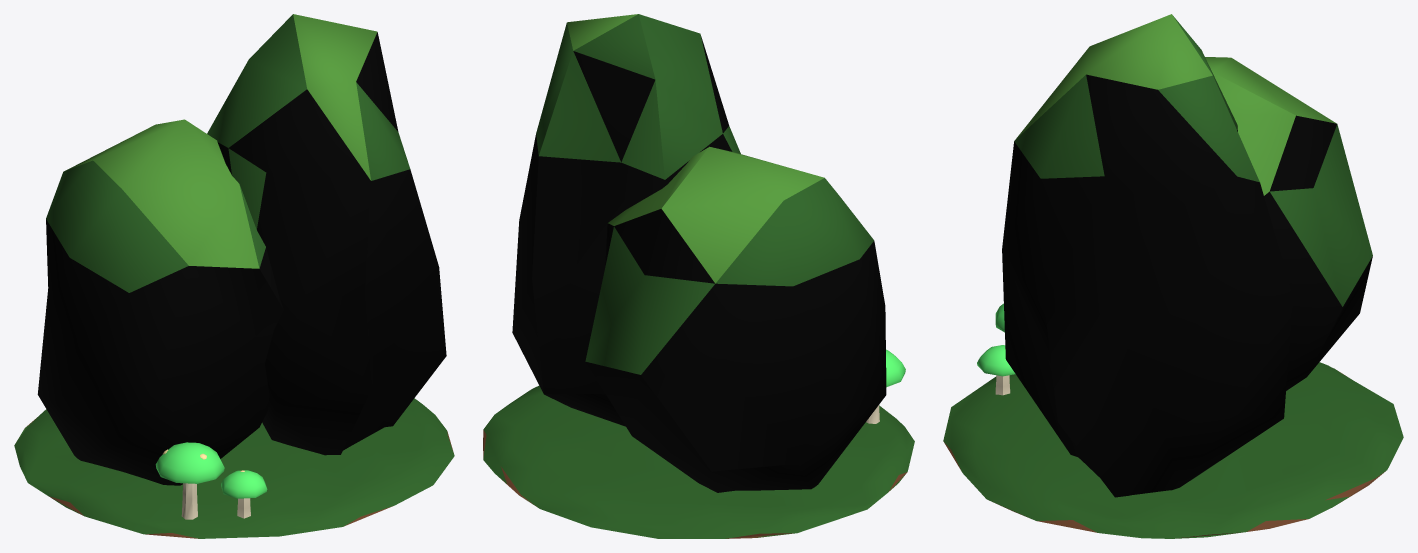
The model's file is MossBoulderB.fbx.
3 views of the same model, side by side, from view 1: azimuth 30°, elevation 25°; view 2: azimuth 150°, elevation 25°; view 3: azimuth 270°, elevation 25° (orthographic). The views are drawn at different scales.
Visible parts, largest first — view 1: MossBoulderB; view 2: MossBoulderB; view 3: MossBoulderB.
Boxes of the visible parts, x1,y1,x2,y2 form: MossBoulderB: (14,14,454,538); MossBoulderB: (483,14,914,538); MossBoulderB: (943,14,1403,538).
Bounding box in the file's own units: 1.66 × 1.78 × 1.63.
2 materials, 2 textured.
